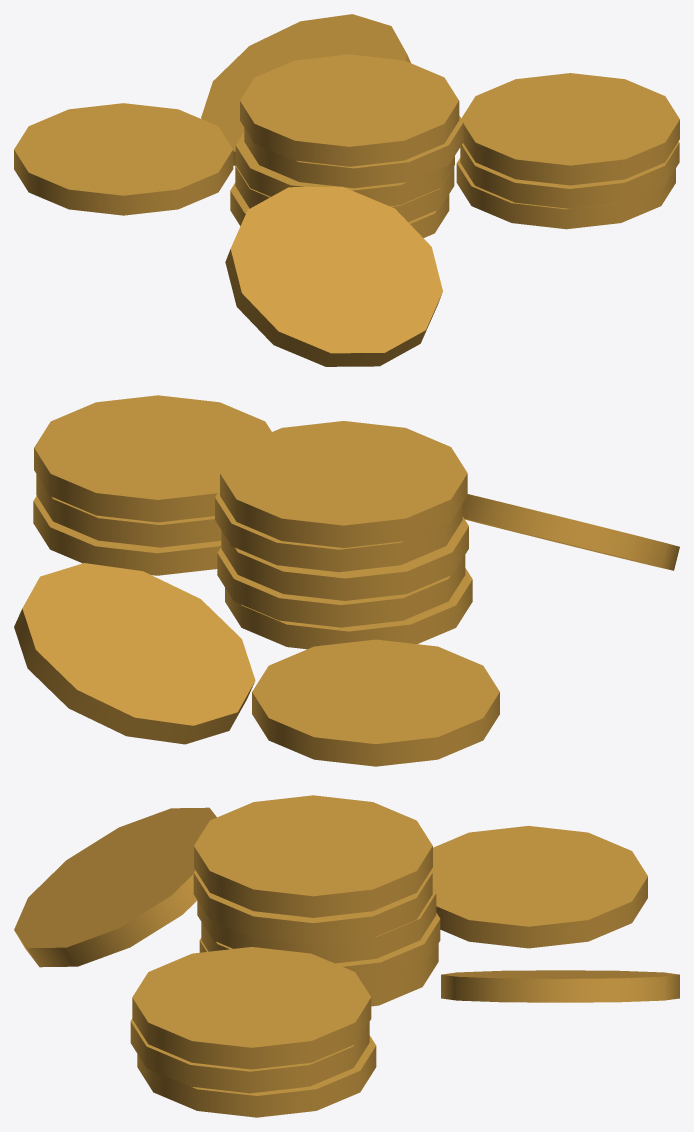
The model's file is coins.glb.
The picture shows the model from 3 angles, top to bottom: view 1: azimuth 30°, elevation 25°; view 2: azimuth 150°, elevation 25°; view 3: azimuth 270°, elevation 25°; orthographic projection. The views are drawn at different scales.
Parts seen in each view (by area): view 1: gold; view 2: gold; view 3: gold.
Boxes of the visible parts, box(x1,y1,x2,y2) form: gold: box(14, 14, 679, 366); gold: box(14, 395, 679, 766); gold: box(14, 795, 679, 1117).
Size of the model in its own units: 0.8054 by 0.2179 by 0.836.
